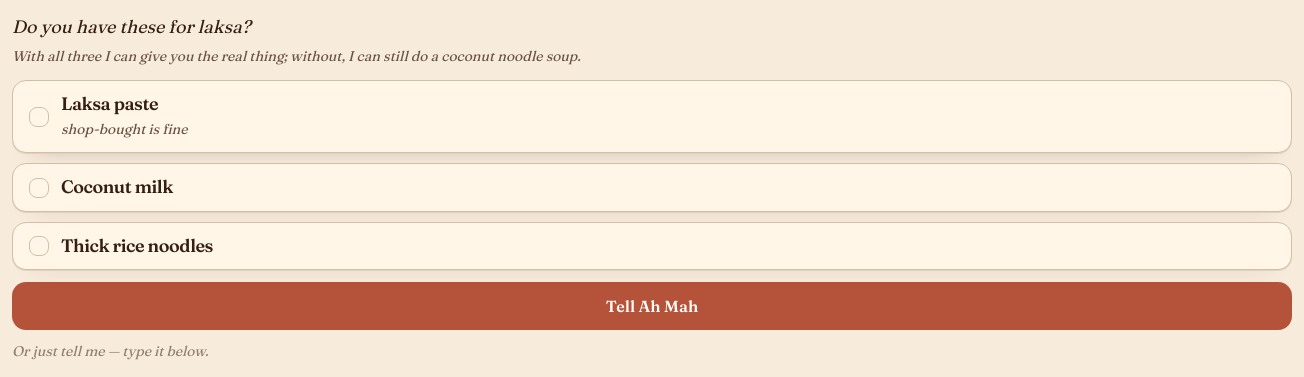
Scenario: ChecklistBlock › stages ticks without sending — the card is multi-select, not tap-to-send
This screenshot has width=1304, height=377.
What coordinates should you click on to do the following:
click the text "Laksa paste"
I would click on:
 (110, 104)
Its box is [61,92,158,115].
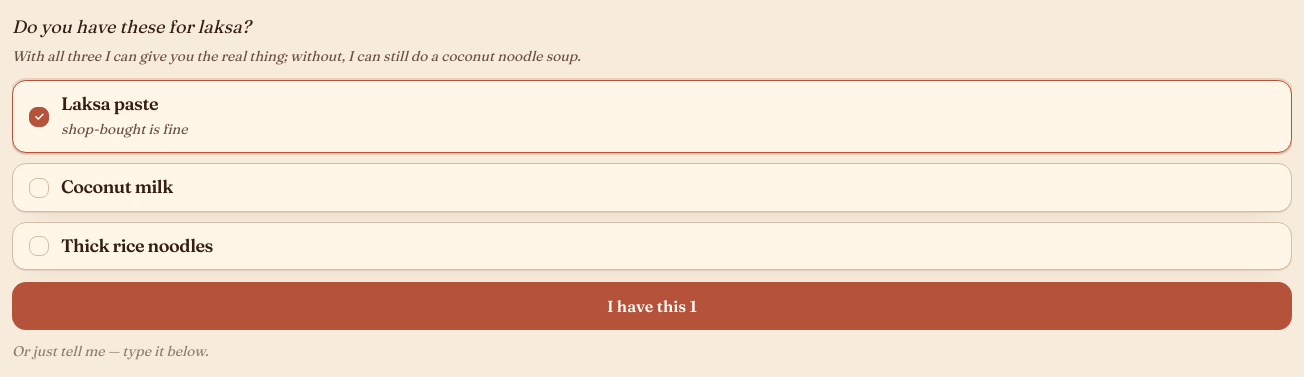
What coordinates should you click on to do the following:
click the text "Coconut milk"
I would click on:
 (117, 187)
Its box is [61,175,173,198].
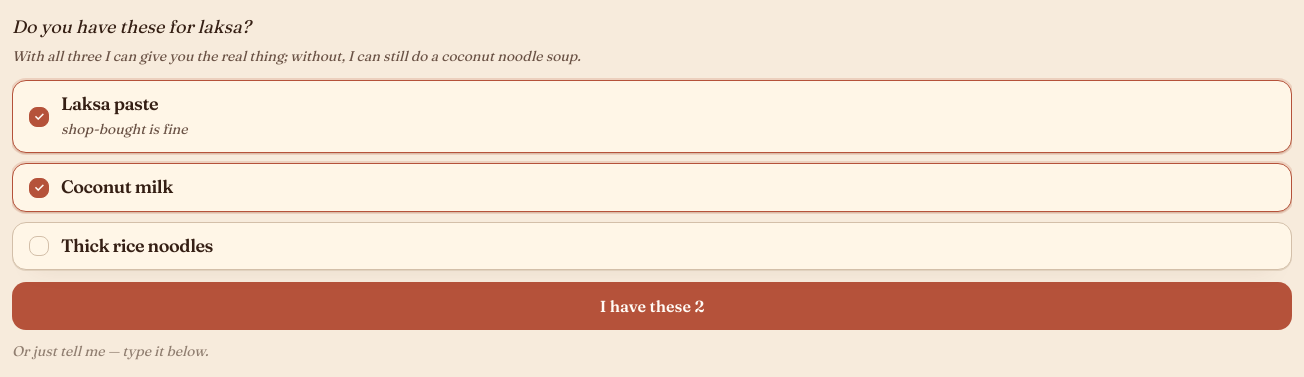
Result: the button "I have these 2" is shown at [12,282,1292,330]
